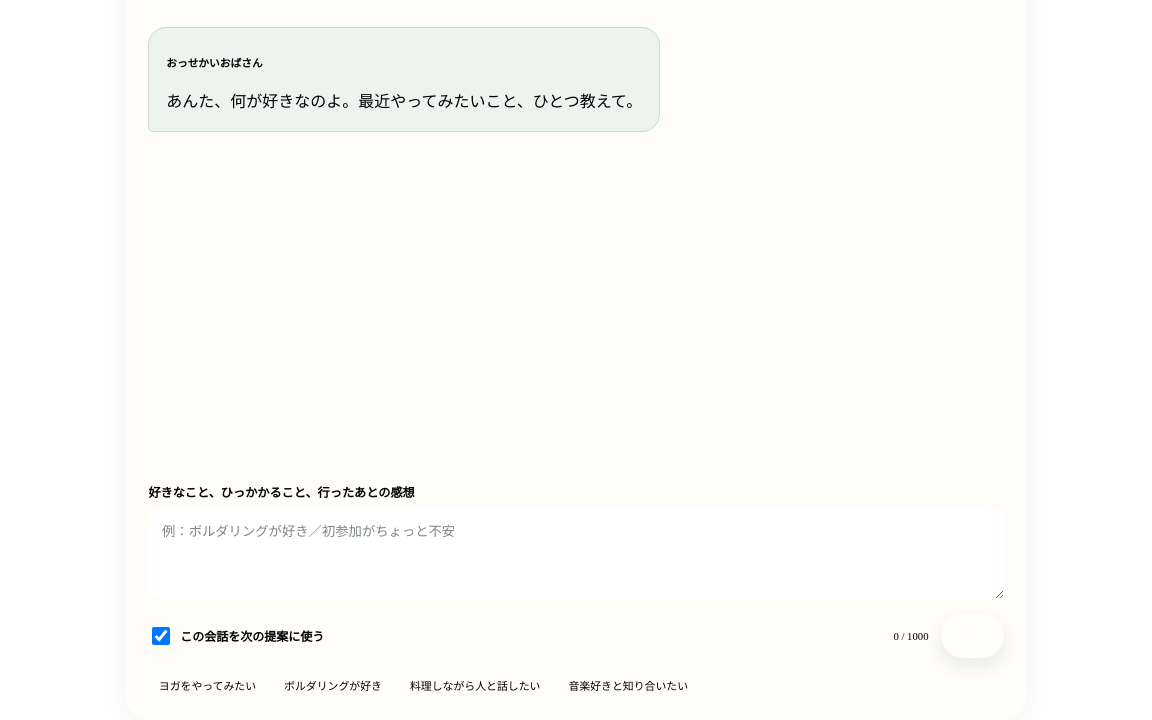
Scenario: Osekkai client components › Chat asks one hobby question without exposing internal profile panels
The image size is (1152, 720).
(page scrolled)
Expected: the text "あんた、何が好きなのよ。最近やってみたいこと、ひとつ教えて。" is shown, [166,88,642,115]
Expected: the button "ヨガをやってみたい" is shown, [148,670,266,700]
Click the button "ボルダリングが好き": (333, 685) [274,670,392,700]
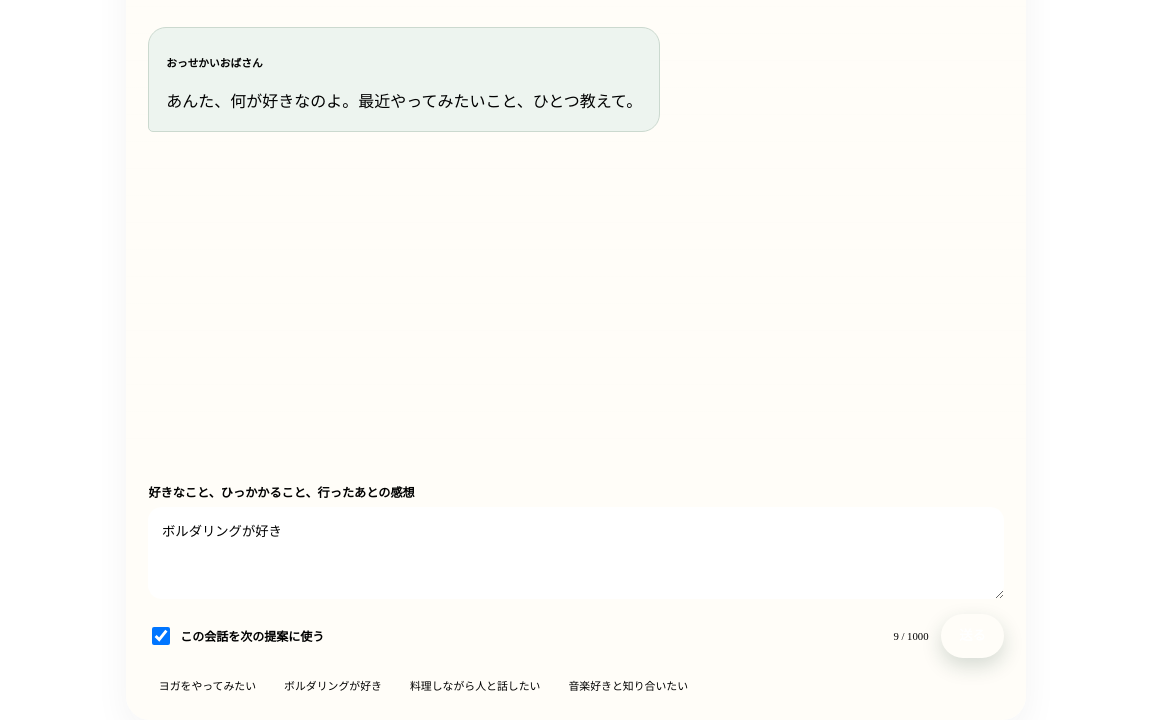
Result: the text box labelled "好きなこと、ひっかかること、行ったあとの感想" holds "ボルダリングが好き" at [148,507,1004,598]
